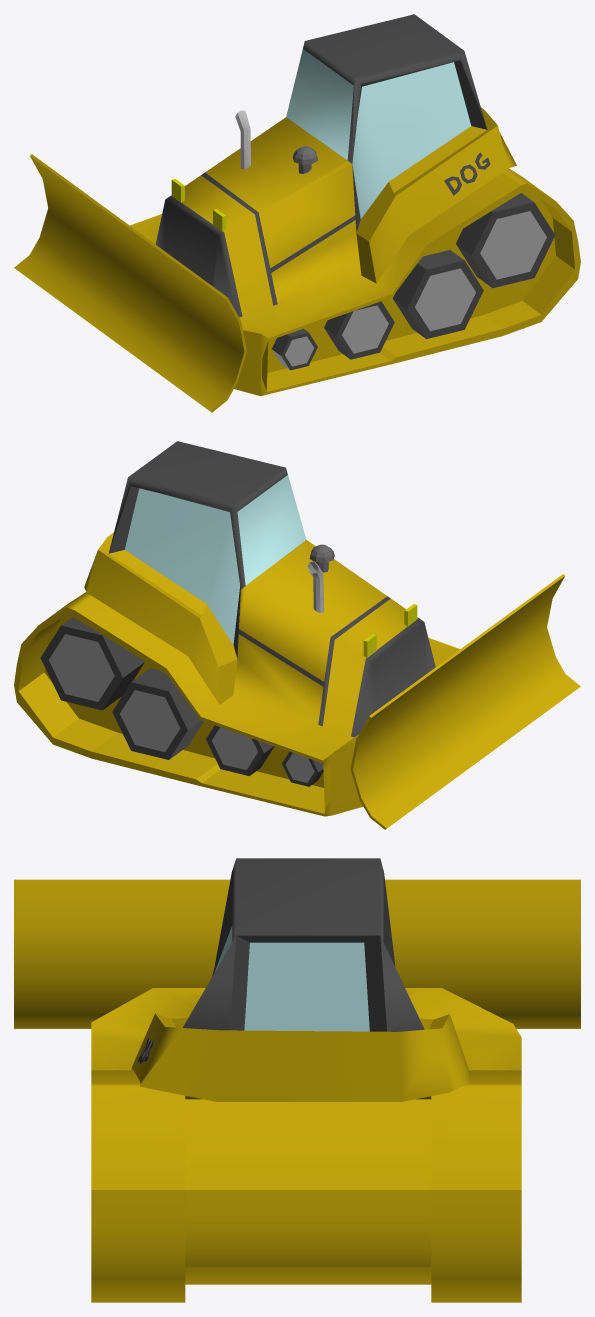
The model's file is Bulldozer.fbx.
3 views of the same model, one above another, from view 1: azimuth 30°, elevation 25°; view 2: azimuth 150°, elevation 25°; view 3: azimuth 270°, elevation 25° (orthographic). The views are drawn at different scales.
Parts seen in each view (by area): view 1: pCube14; view 2: pCube14; view 3: pCube14.
Boxes of the visible parts, bbox=[...] form: pCube14: bbox=[14, 14, 580, 412]; pCube14: bbox=[14, 441, 580, 829]; pCube14: bbox=[14, 858, 580, 1302].
Bounding box in the file's own units: 414 × 246 × 354.
